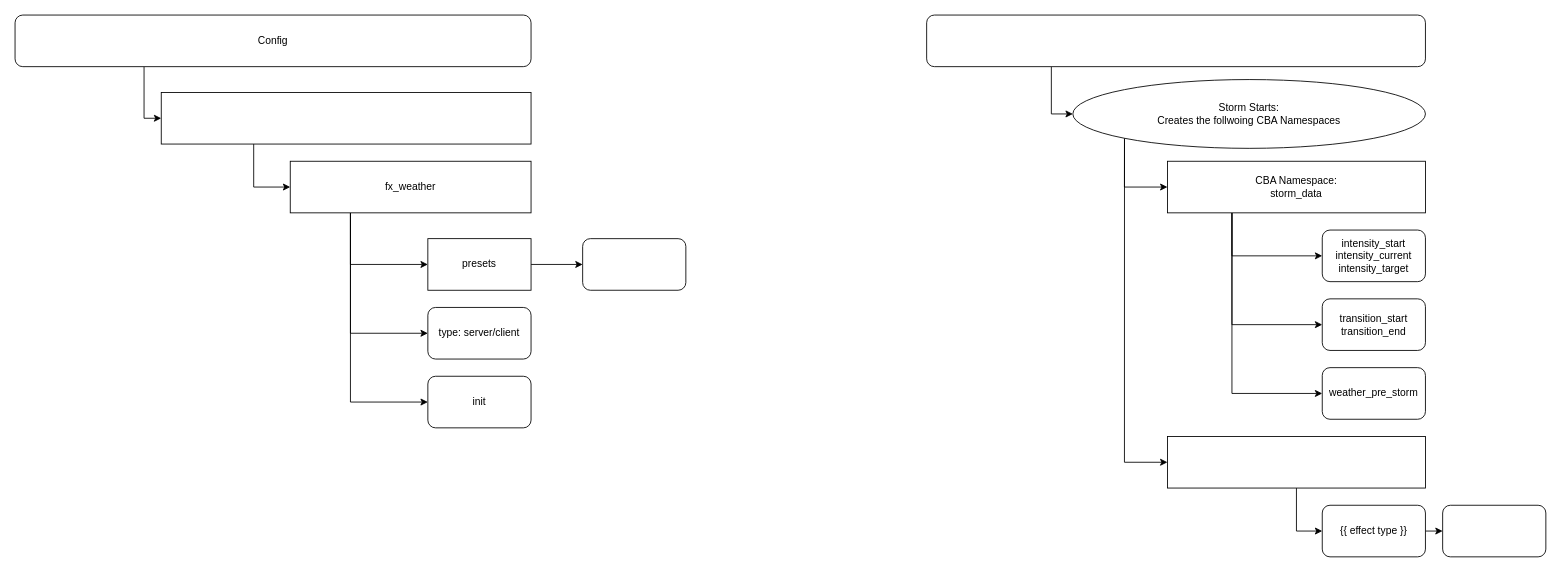
This 1561x572 diagram has some shape labels left out. Each missing label, with the box of its shape:
base: (582, 238, 686, 290)
CBA Namespace: storm_effects: (1167, 436, 1425, 488)
CfgStorm_Effects: (160, 92, 531, 144)
During mission Runtime: (926, 14, 1425, 67)
effect type data: (1442, 504, 1546, 557)
